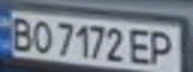1: (69, 21, 90, 57)
2: (103, 24, 130, 64)
7: (51, 19, 75, 56), (87, 22, 106, 61)
B: (3, 14, 39, 52)
E: (124, 26, 157, 66)
O: (27, 17, 57, 54)
P: (145, 28, 181, 70)
